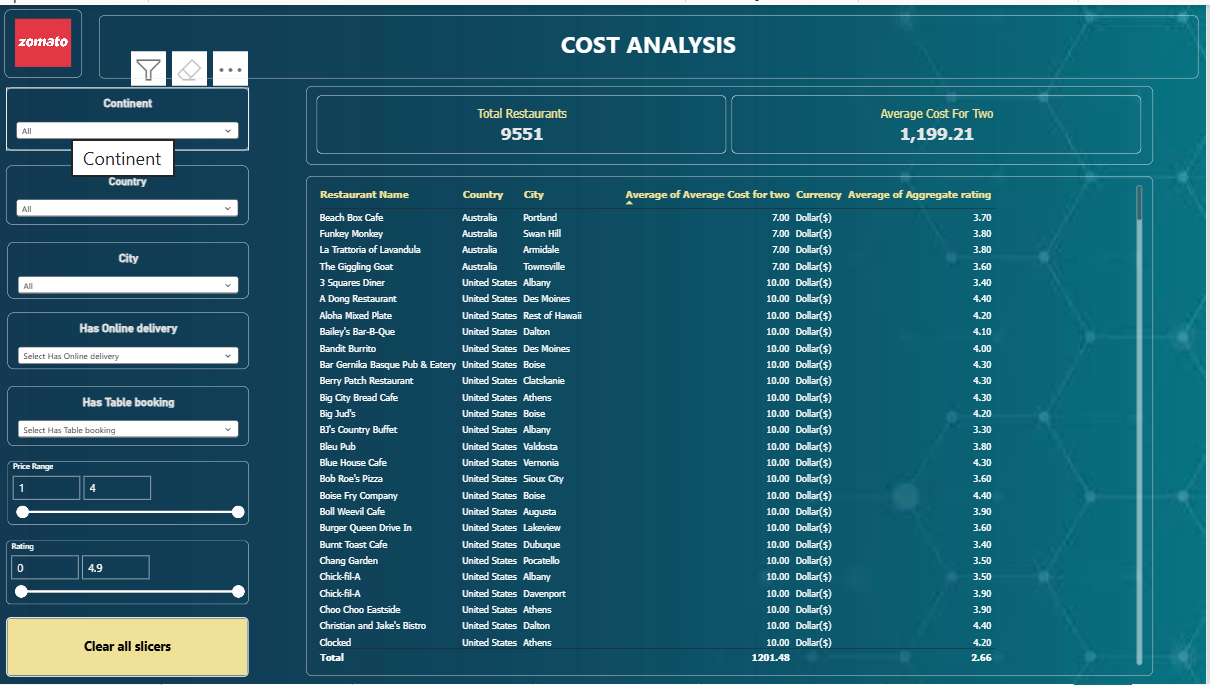

The dashboard page shown, as its layout file describes it:
{"tool":"powerbi","page":{"name":"Cost Analysis","canvas":[1920,1080],"ordinal":2},"visuals":[{"type":"image","box":[0,0,1920,1080],"z":0},{"type":"image","box":[8.3,8.3,123.3,108.3],"z":1000},{"type":"listSlicer","fields":{"Values":["Append1.Continent Hierarchy.Continent"]},"box":[9.5,131.2,386.5,100.2],"z":2000},{"type":"listSlicer","fields":{"Values":["Append1.Continent Hierarchy.Country"]},"box":[10,256,386,94],"z":3000},{"type":"listSlicer","fields":{"Values":["Append1.Continent Hierarchy.City"]},"box":[12,376,384,90],"z":4000},{"type":"listSlicer","fields":{"Values":["KPIs.Has Online delivery"]},"box":[12,490,384,90],"z":5000},{"type":"listSlicer","fields":{"Values":["KPIs.Has Table booking"]},"box":[12.5,605,383.8,95],"z":6000},{"type":"slicer","title":"Rating","fields":{"Values":["KPIs.Price range"]},"box":[12.5,726.2,383.8,101.2],"z":7000},{"type":"slicer","title":"Rating","fields":{"Values":["KPIs.Aggregate rating"]},"box":[10,852.5,386.2,101.2],"z":8000},{"type":"actionButton","box":[10,972.5,386.2,95],"z":9000},{"type":"textbox","box":[157.5,16.7,1748.9,100.2],"z":10000},{"type":"cardVisual","fields":{"Data":["Rest Measures.Total Restaurants","Rest Measures.Average Cost For Two"]},"box":[487.5,130,1347.5,125],"z":12000},{"type":"tableEx","fields":{"Values":["Append1.Restaurant Name","Append1.Country","Append1.City","Avg(KPIs.Average Cost for two)","KPIs.Currency","Avg(KPIs.Aggregate rating)"]},"box":[487.5,272.5,1347.5,795],"z":13000}]}

Visuals, with their boxes in screenshot pixels (x1, y1, x2, y2), scaled from the page's 1920x1080 canvas onto the 1210x685 screenshot:
image: detection(0, 0, 1209, 684)
image: detection(5, 5, 83, 74)
listSlicer - Append1.Continent Hierarchy.Continent: detection(6, 83, 250, 147)
listSlicer - Append1.Continent Hierarchy.Country: detection(6, 162, 250, 222)
listSlicer - Append1.Continent Hierarchy.City: detection(8, 238, 250, 296)
listSlicer - KPIs.Has Online delivery: detection(8, 311, 250, 368)
listSlicer - KPIs.Has Table booking: detection(8, 384, 250, 444)
"Rating" slicer: detection(8, 461, 250, 525)
"Rating" slicer: detection(6, 541, 250, 605)
actionButton: detection(6, 617, 250, 677)
textbox: detection(99, 11, 1201, 74)
cardVisual - Rest Measures.Total Restaurants x Rest Measures.Average Cost For Two: detection(307, 82, 1156, 162)
tableEx - Append1.Restaurant Name x Append1.Country: detection(307, 173, 1156, 677)
